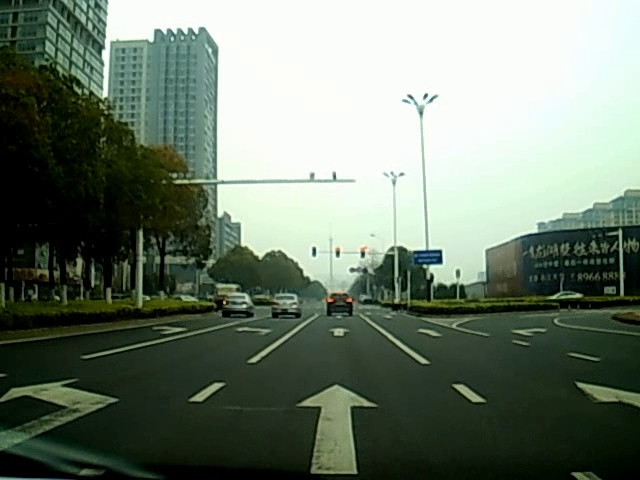Traffic_Light_stop: (359, 247, 367, 260), (334, 246, 341, 260)
